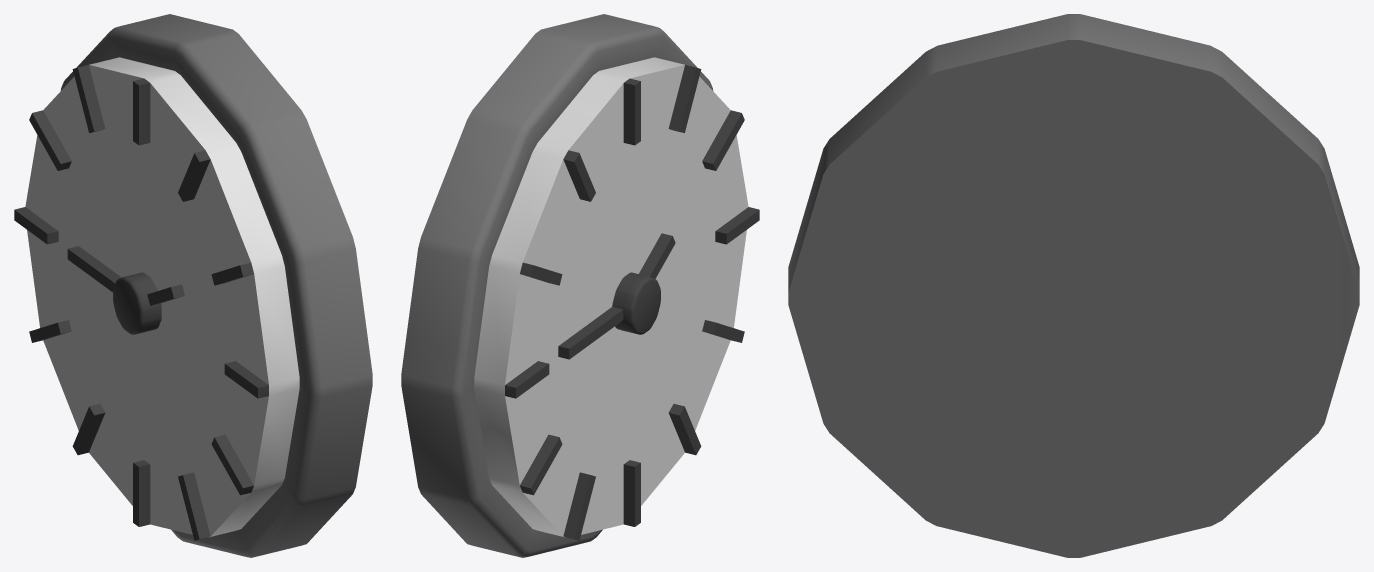
Rendered from Wall Clock.fbx.
The picture shows the model from 3 angles, left to right: view 1: azimuth 30°, elevation 25°; view 2: azimuth 150°, elevation 25°; view 3: azimuth 270°, elevation 25°; orthographic projection. The views are drawn at different scales.
Parts seen in each view (by area): view 1: Wall Clock; view 2: Wall Clock; view 3: Wall Clock.
Part boxes in pixels (<box>): Wall Clock: <box>14,14,372,557</box>; Wall Clock: <box>401,14,759,557</box>; Wall Clock: <box>788,14,1359,557</box>.
Bounding box in the file's own units: 0.1225 × 0.5318 × 0.5318.
